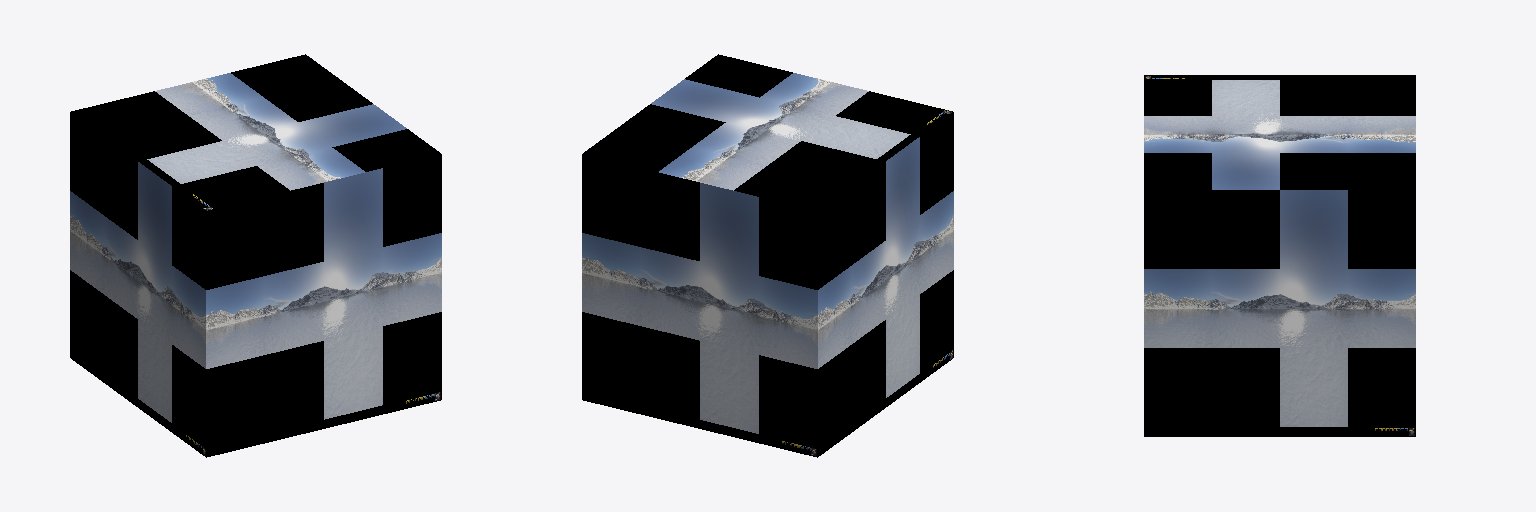
3 views of the same model, side by side, from view 1: azimuth 30°, elevation 25°; view 2: azimuth 150°, elevation 25°; view 3: azimuth 270°, elevation 25° (orthographic).
Visible parts, largest first — view 1: Cube_Cube.002; view 2: Cube_Cube.002; view 3: Cube_Cube.002.
Boxes of the visible parts, x1,y1,x2,y2 form: Cube_Cube.002: [70, 54, 441, 457]; Cube_Cube.002: [582, 54, 953, 457]; Cube_Cube.002: [1144, 75, 1415, 436].
Size of the model in its own units: 8.53 by 8.53 by 8.53.
Materials: 1 (1 with a texture image).